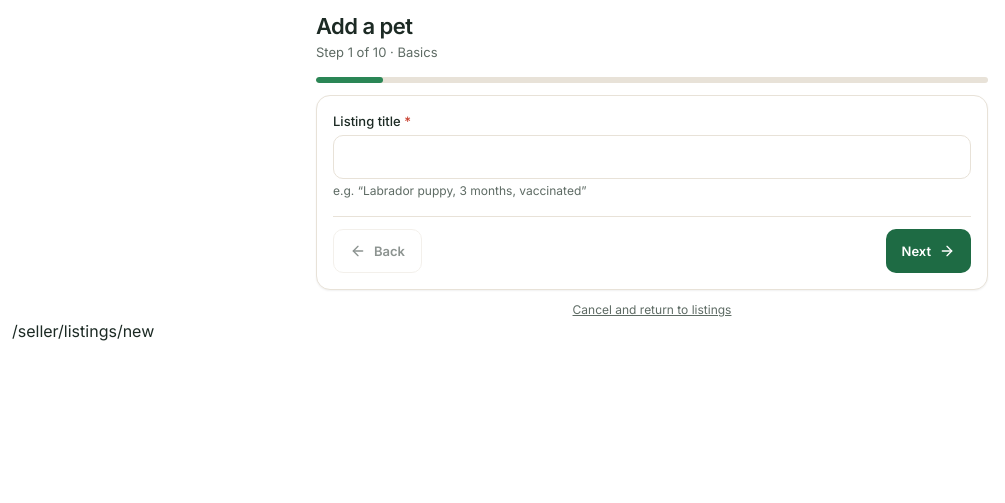
listing wizard › rejects prices below ₹1 on the client
Type "Labrador puppy 3 months" into the field labelled "Listing title *" at (652, 157), box [333,135,971,179]
Click the button "Next" at (928, 251), box [886,229,971,273]
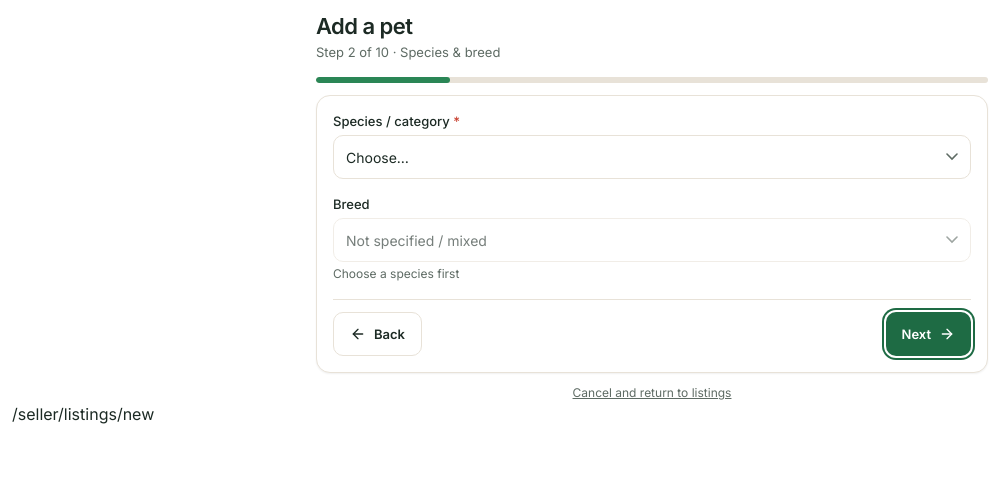
Select "Dogs" in the dropdown labelled "Species / category *" at (652, 157), box [333,135,971,179]
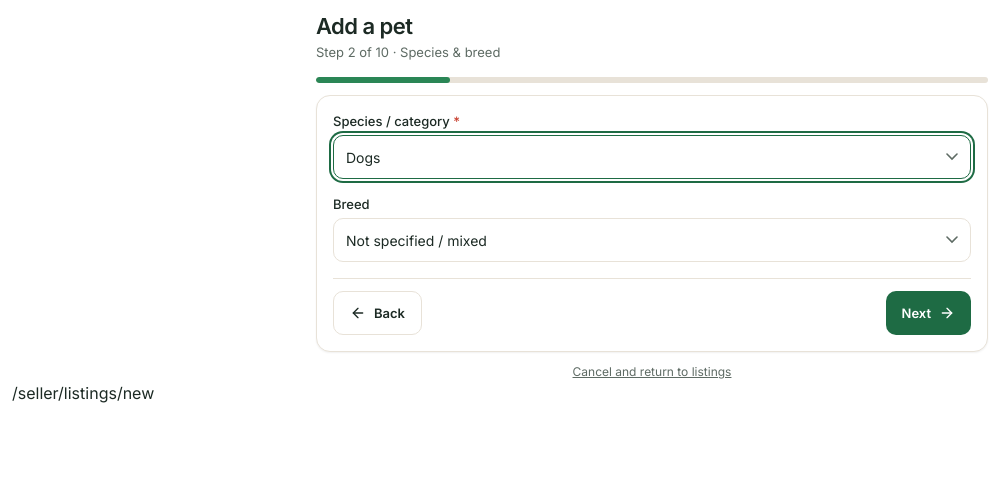
Click the button "Next" at (928, 313), box [886,291,971,335]
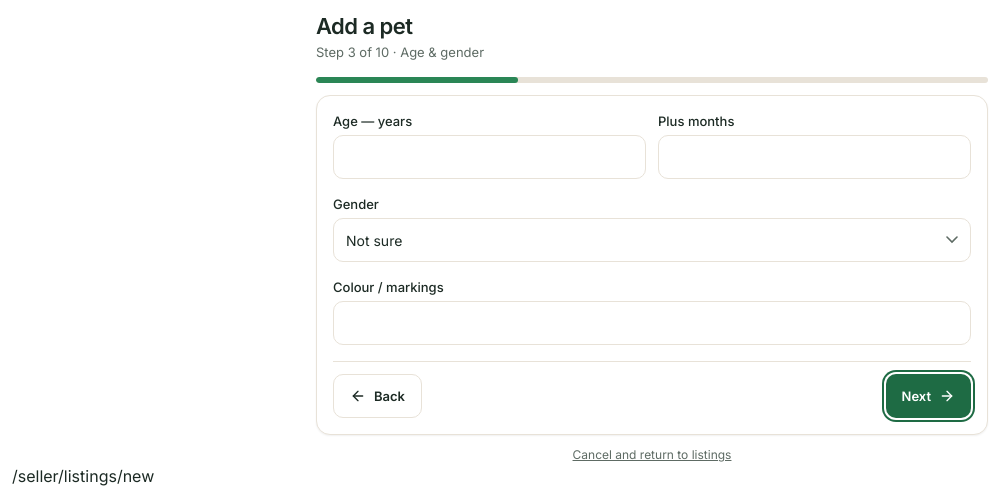
Click the button "Next" at (928, 396), box [886,374,971,418]
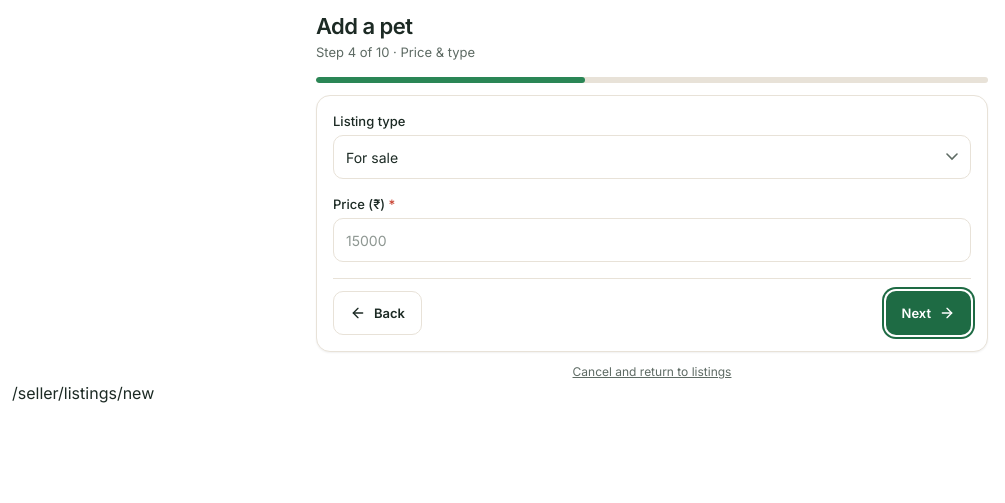
Type "0.5" into the field labelled "Price (₹) *" at (652, 240), box [333,218,971,262]
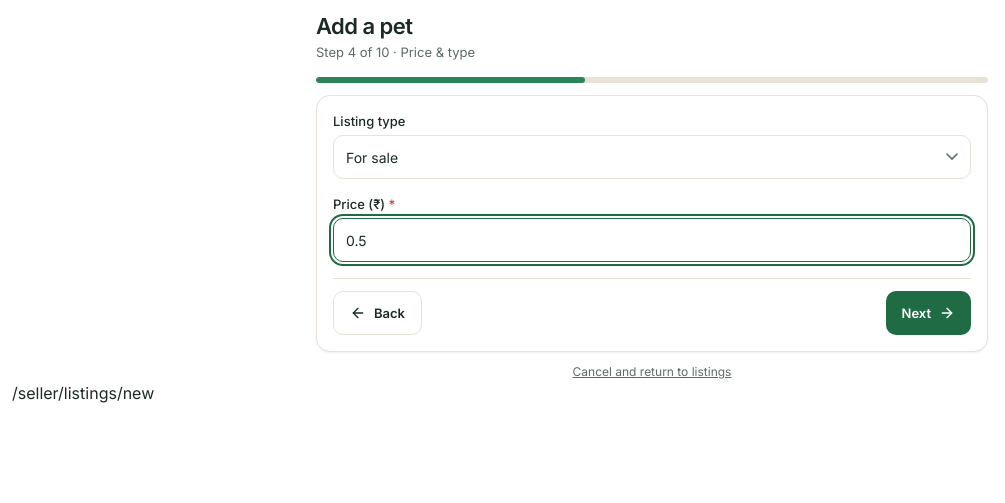
Click the button "Next" at (928, 313), box [886,291,971,335]
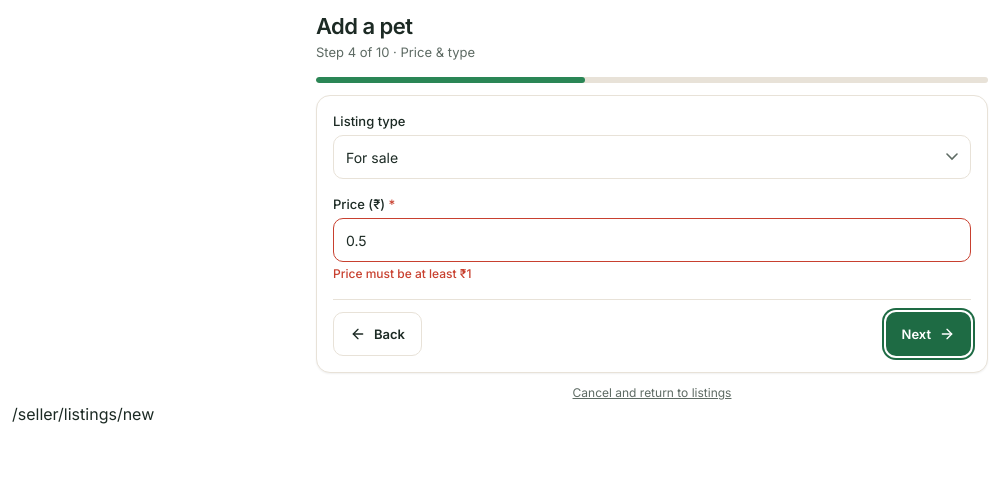
Expected: the text "Price must be at least ₹1" is shown, [333,266,471,281]
